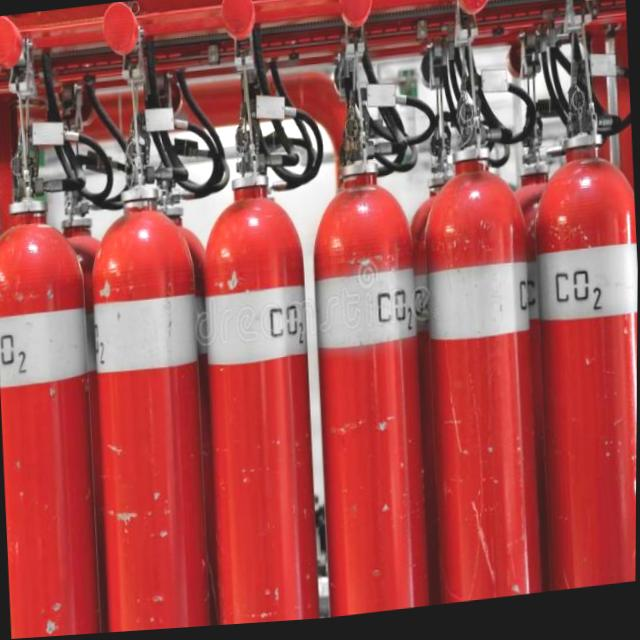FireExtinguisher: (70, 104, 226, 636), (299, 66, 440, 623), (186, 89, 328, 630), (415, 94, 552, 611), (0, 111, 111, 640), (521, 131, 639, 599)
